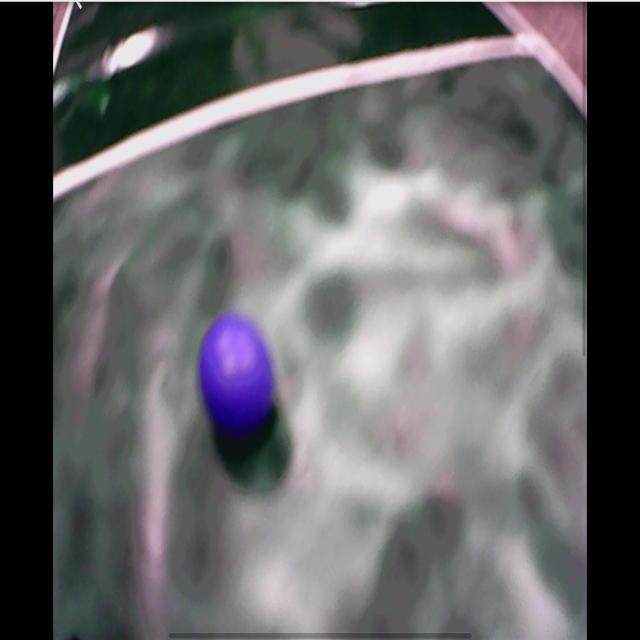ball: (201, 320, 273, 433)
